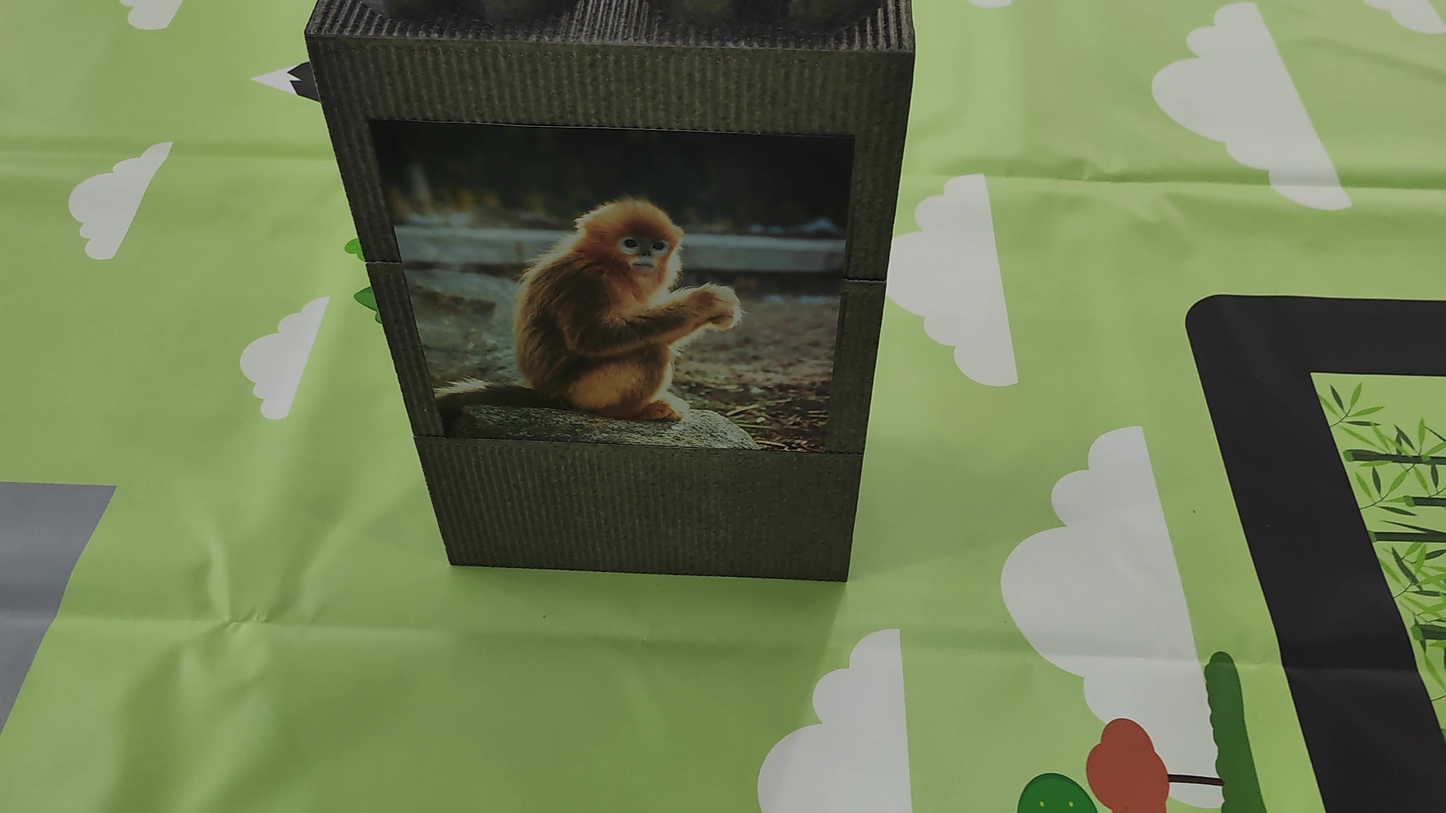monkey: (483, 181, 773, 453)
